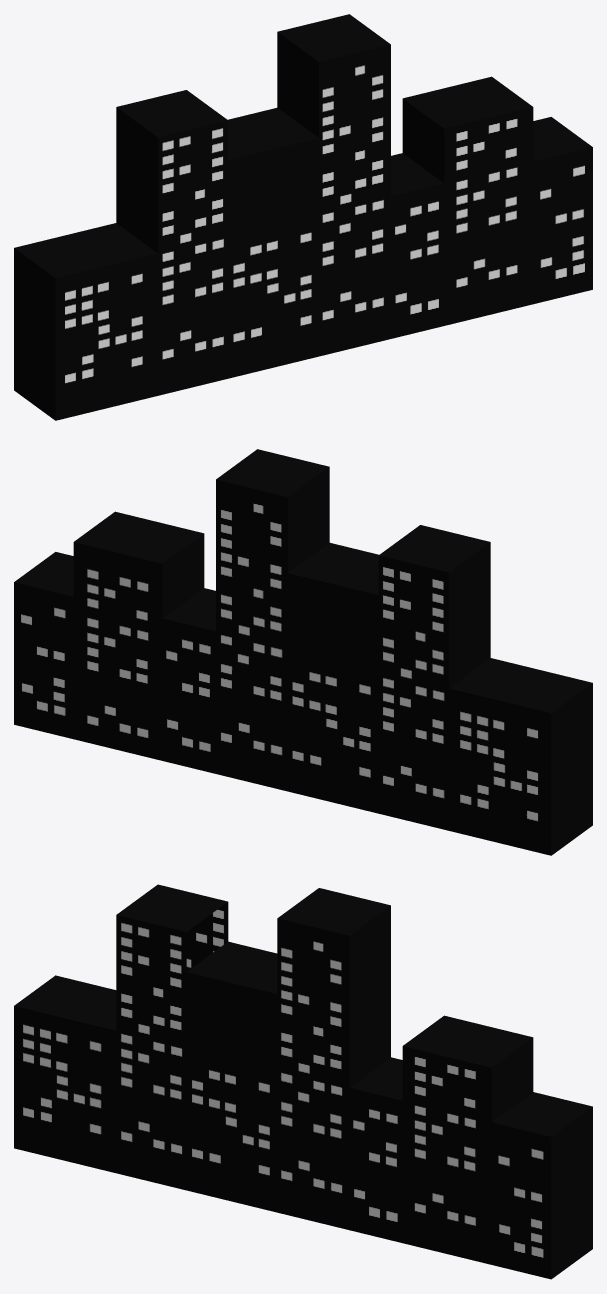
The model's file is bg_building.fbx.
The picture shows the model from 3 angles, top to bottom: view 1: azimuth 30°, elevation 25°; view 2: azimuth 150°, elevation 25°; view 3: azimuth 330°, elevation 25°; orthographic projection.
Parts seen in each view (by area): view 1: bg_building; view 2: bg_building; view 3: bg_building.
Boxes of the visible parts, bbox=[...] form: bg_building: bbox=[14, 14, 592, 420]; bg_building: bbox=[14, 449, 592, 855]; bg_building: bbox=[14, 884, 592, 1279].
Bounding box in the file's own units: 14.92 × 7.81 × 2.
